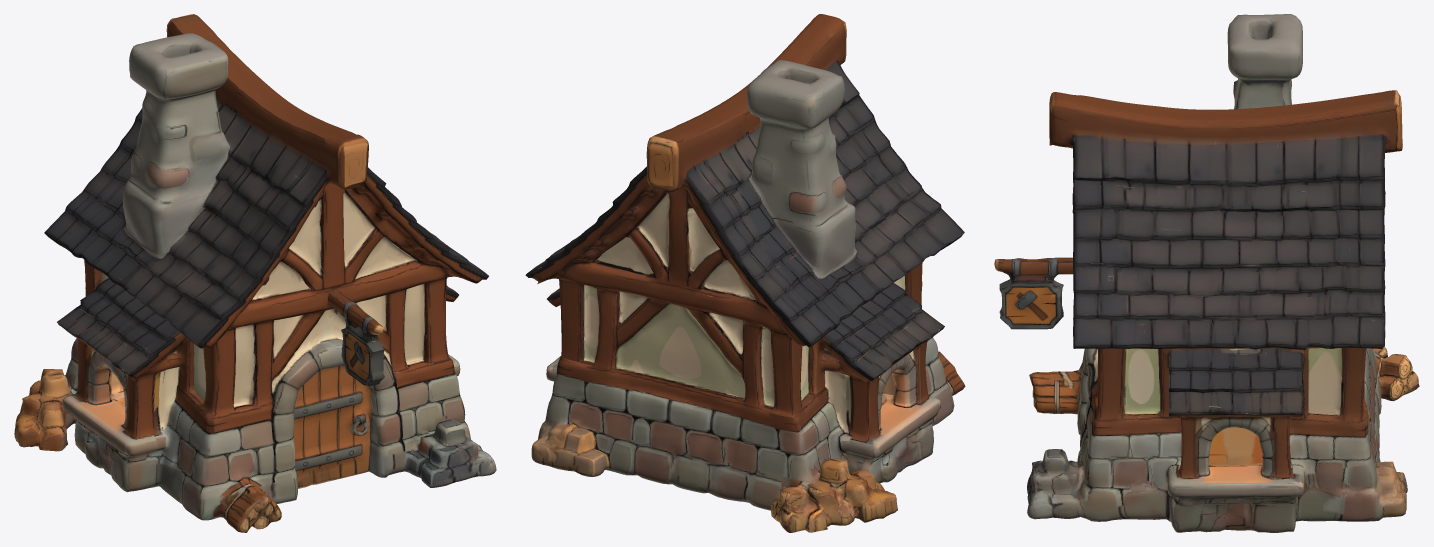
File: building_hods_smithy_v1.glb
The picture shows the model from 3 angles, left to right: view 1: azimuth 30°, elevation 25°; view 2: azimuth 150°, elevation 25°; view 3: azimuth 270°, elevation 25°; orthographic projection.
Visible parts, largest first — view 1: Mesh_0; view 2: Mesh_0; view 3: Mesh_0.
Part boxes in pixels (<box>): Mesh_0: <box>14,14,496,532</box>; Mesh_0: <box>525,14,965,532</box>; Mesh_0: <box>994,14,1419,532</box>.
Bounding box in the file's own units: 1.85 × 1.9 × 1.85.
Materials: 1 (1 with a texture image).
